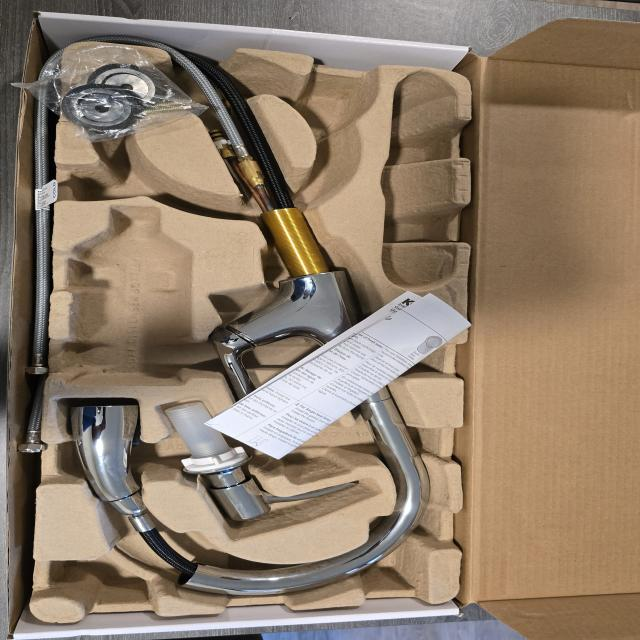1o: (71, 44, 431, 599)
2: (163, 401, 358, 523)
3m: (70, 203, 193, 385)
4m: (383, 70, 458, 291)
5m: (301, 79, 362, 134)
6m: (69, 150, 207, 209)
7: (8, 42, 206, 148)
8: (200, 289, 473, 460)
